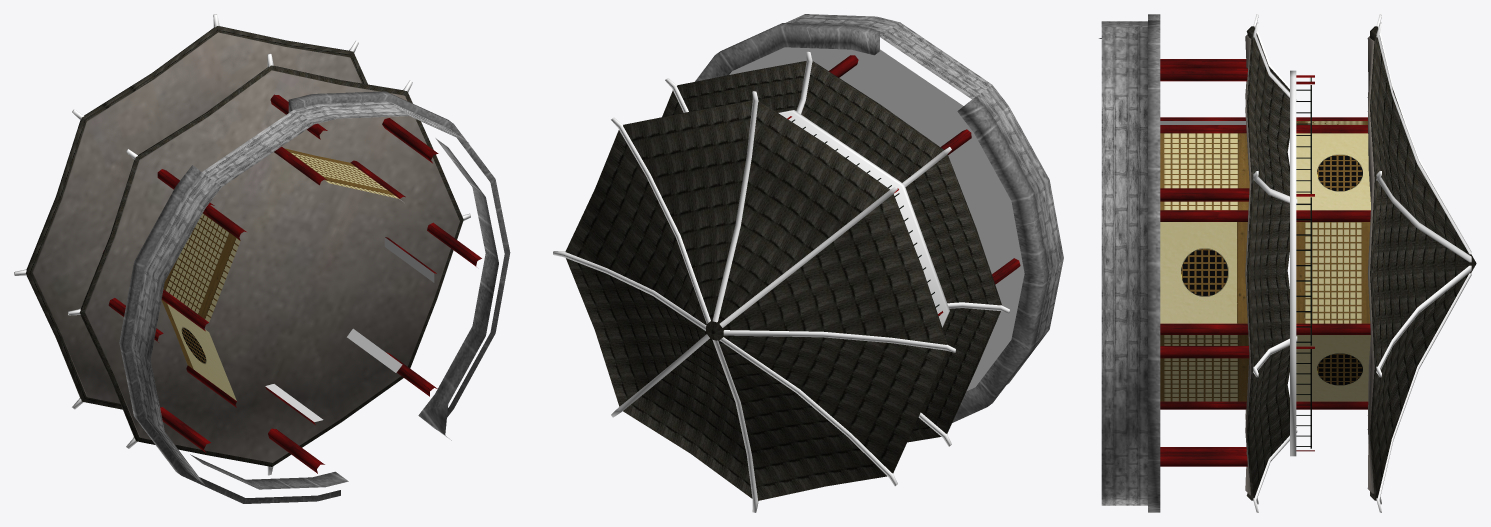
The model's file is pagoda1_LOD50.glb.
The picture shows the model from 3 angles, left to right: view 1: azimuth 30°, elevation 25°; view 2: azimuth 150°, elevation 25°; view 3: azimuth 270°, elevation 25°; orthographic projection. The views are drawn at different scales.
Parts seen in each view (by area): view 1: shintoB.jpg__, roadRoundBrick.jpg__, pagoda_wall.jpg__, JapanwoodBridge.jpg__, ___, stktex_generic_WoodA.png__; view 2: shintoB.jpg__, stktex_generic_WoodA.png__, roadRoundBrick.jpg__, JapanwoodBridge.jpg__; view 3: shintoB.jpg__, pagoda_wall.jpg__, roadRoundBrick.jpg__, JapanwoodBridge.jpg__, stktex_generic_WoodA.png__, fence_pagoda.png__.
Boxes of the visible parts, x1=… form: shintoB.jpg__: x1=26, y1=26, x2=463, y2=466; roadRoundBrick.jpg__: x1=119, y1=91, x2=510, y2=503; pagoda_wall.jpg__: x1=161, y1=148, x2=399, y2=400; JapanwoodBridge.jpg__: x1=102, y1=94, x2=481, y2=473; ___: x1=265, y1=199, x2=434, y2=421; stktex_generic_WoodA.png__: x1=14, y1=14, x2=470, y2=475; shintoB.jpg__: x1=565, y1=61, x2=1001, y2=500; stktex_generic_WoodA.png__: x1=553, y1=47, x2=1024, y2=512; roadRoundBrick.jpg__: x1=695, y1=14, x2=1063, y2=422; JapanwoodBridge.jpg__: x1=829, y1=55, x2=1020, y2=284; shintoB.jpg__: x1=1245, y1=26, x2=1476, y2=500; pagoda_wall.jpg__: x1=1160, y1=121, x2=1370, y2=401; roadRoundBrick.jpg__: x1=1099, y1=14, x2=1160, y2=512; JapanwoodBridge.jpg__: x1=1160, y1=59, x2=1370, y2=466; stktex_generic_WoodA.png__: x1=1253, y1=14, x2=1471, y2=512; fence_pagoda.png__: x1=1296, y1=77, x2=1311, y2=448.
Bounding box in the file's own units: 17.18 × 17.18 × 12.47.
Materials: 8 (6 with a texture image).
